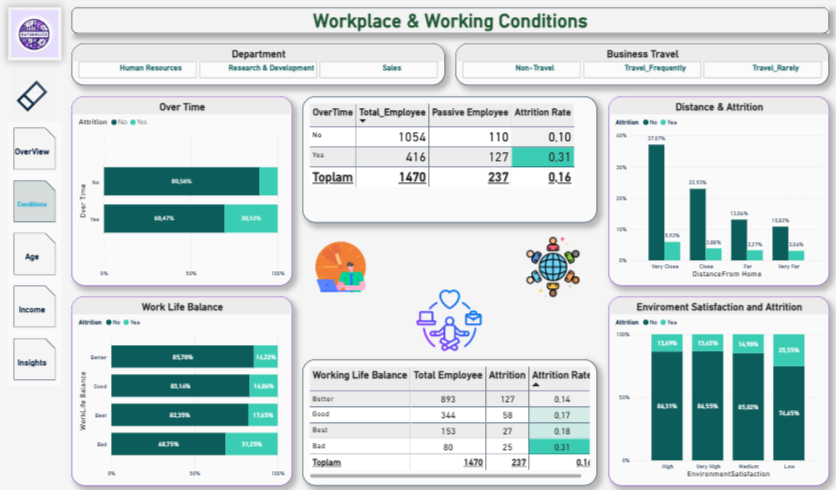

Layout of this report page (visuals, bound fields, positions):
{"tool":"powerbi","page":{"name":"Conditions","canvas":[1600,950],"ordinal":1},"visuals":[{"type":"shape","title":"Workforce Planning","box":[140,20,1440,50],"z":0},{"type":"advancedSlicerVisual","fields":{"Values":["HR-Employee-Attrition.Department"]},"box":[140,90,710,80],"z":1000},{"type":"advancedSlicerVisual","fields":{"Values":["HR-Employee-Attrition.BusinessTravel"]},"box":[870,90,710,80],"z":2000},{"type":"hundredPercentStackedBarChart","title":"Work Life Balance ","fields":{"Y":["CountNonNull(HR-Employee-Attrition.Attrition)"],"Category":["HR-Employee-Attrition.New_WorkinLifeBalance"],"Series":["HR-Employee-Attrition.Attrition"]},"box":[140,570,420,360],"z":3000},{"type":"hundredPercentStackedBarChart","title":"Over Time ","fields":{"Y":["CountNonNull(HR-Employee-Attrition.Attrition)"],"Series":["HR-Employee-Attrition.Attrition"],"Category":["HR-Employee-Attrition.OverTime"]},"box":[140,190,420,360],"z":4000},{"type":"clusteredColumnChart","title":"Distance & Attrition","fields":{"Category":["HR-Employee-Attrition.New_DistanceFrom Home"],"Series":["HR-Employee-Attrition.Attrition"],"Y":["Divide(CountNonNull(HR-Employee-Attrition.Attrition), ScopedEval(CountNonNull(HR-Employee-Attrition.Attrition), []))"]},"box":[1160,190,420,360],"z":5000},{"type":"pivotTable","fields":{"Rows":["HR-Employee-Attrition.New_WorkinLifeBalance"],"Values":["AllMeasures.Total_Employee","AllMeasures.Passive Employee","AllMeasures.Attrition Rate"]},"box":[580,690,560,240],"z":6000},{"type":"hundredPercentStackedColumnChart","title":"Enviroment  Satisfaction and Attrition","fields":{"Category":["HR-Employee-Attrition.New_EnvironmentSatisfaction"],"Y":["CountNonNull(HR-Employee-Attrition.Attrition)"],"Series":["HR-Employee-Attrition.Attrition"]},"box":[1160,570,420,360],"z":7000},{"type":"pivotTable","fields":{"Values":["AllMeasures.Total_Employee","AllMeasures.Passive Employee","AllMeasures.Attrition Rate"],"Rows":["HR-Employee-Attrition.OverTime"]},"box":[580,190,560,240],"z":8000},{"type":"image","box":[20,20,100,100],"z":9000},{"type":"pageNavigator","box":[20,240,100,500],"z":10000},{"type":"image","box":[774,542,170,148],"z":11000},{"type":"image","box":[586,458,134,112],"z":12000},{"type":"image","box":[974,452,162,124],"z":13000},{"type":"actionButton","box":[30,140,80,80],"z":14000}]}

Visuals, with their boxes on the page's 1600x950 design canvas (x1, y1, x2, y2). These are canvas units, not pixel positions in the 836x490 screenshot, which may show the page scaled, cropped or inside an application window:
"Workforce Planning" shape: 140 20 1580 70
advancedSlicerVisual - HR-Employee-Attrition.Department: 140 90 850 170
advancedSlicerVisual - HR-Employee-Attrition.BusinessTravel: 870 90 1580 170
"Work Life Balance " hundredPercentStackedBarChart: 140 570 560 930
"Over Time " hundredPercentStackedBarChart: 140 190 560 550
"Distance & Attrition" clusteredColumnChart: 1160 190 1580 550
pivotTable - HR-Employee-Attrition.New_WorkinLifeBalance x AllMeasures.Total_Employee: 580 690 1140 930
"Enviroment  Satisfaction and Attrition" hundredPercentStackedColumnChart: 1160 570 1580 930
pivotTable - AllMeasures.Total_Employee x AllMeasures.Passive Employee: 580 190 1140 430
image: 20 20 120 120
pageNavigator: 20 240 120 740
image: 774 542 944 690
image: 586 458 720 570
image: 974 452 1136 576
actionButton: 30 140 110 220
